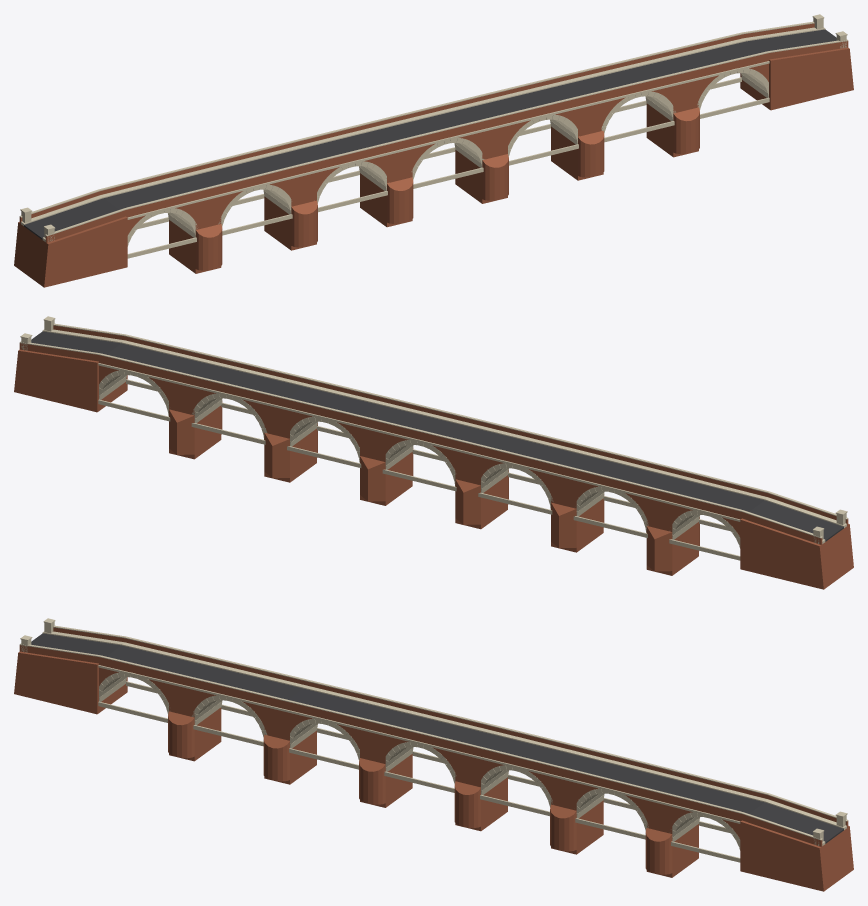
The model's file is rome_pons_neronianus.glb.
3 views of the same model, one above another, from view 1: azimuth 30°, elevation 25°; view 2: azimuth 150°, elevation 25°; view 3: azimuth 330°, elevation 25° (orthographic).
Parts seen in each view (by area): view 1: rome_pons_neronianus; view 2: rome_pons_neronianus; view 3: rome_pons_neronianus.
Boxes of the visible parts, x1,y1,x2,y2 form: rome_pons_neronianus: (14,14,853,287); rome_pons_neronianus: (14,316,853,589); rome_pons_neronianus: (14,618,853,891).
Bounding box in the file's own units: 174 × 17.1 × 13.6.
